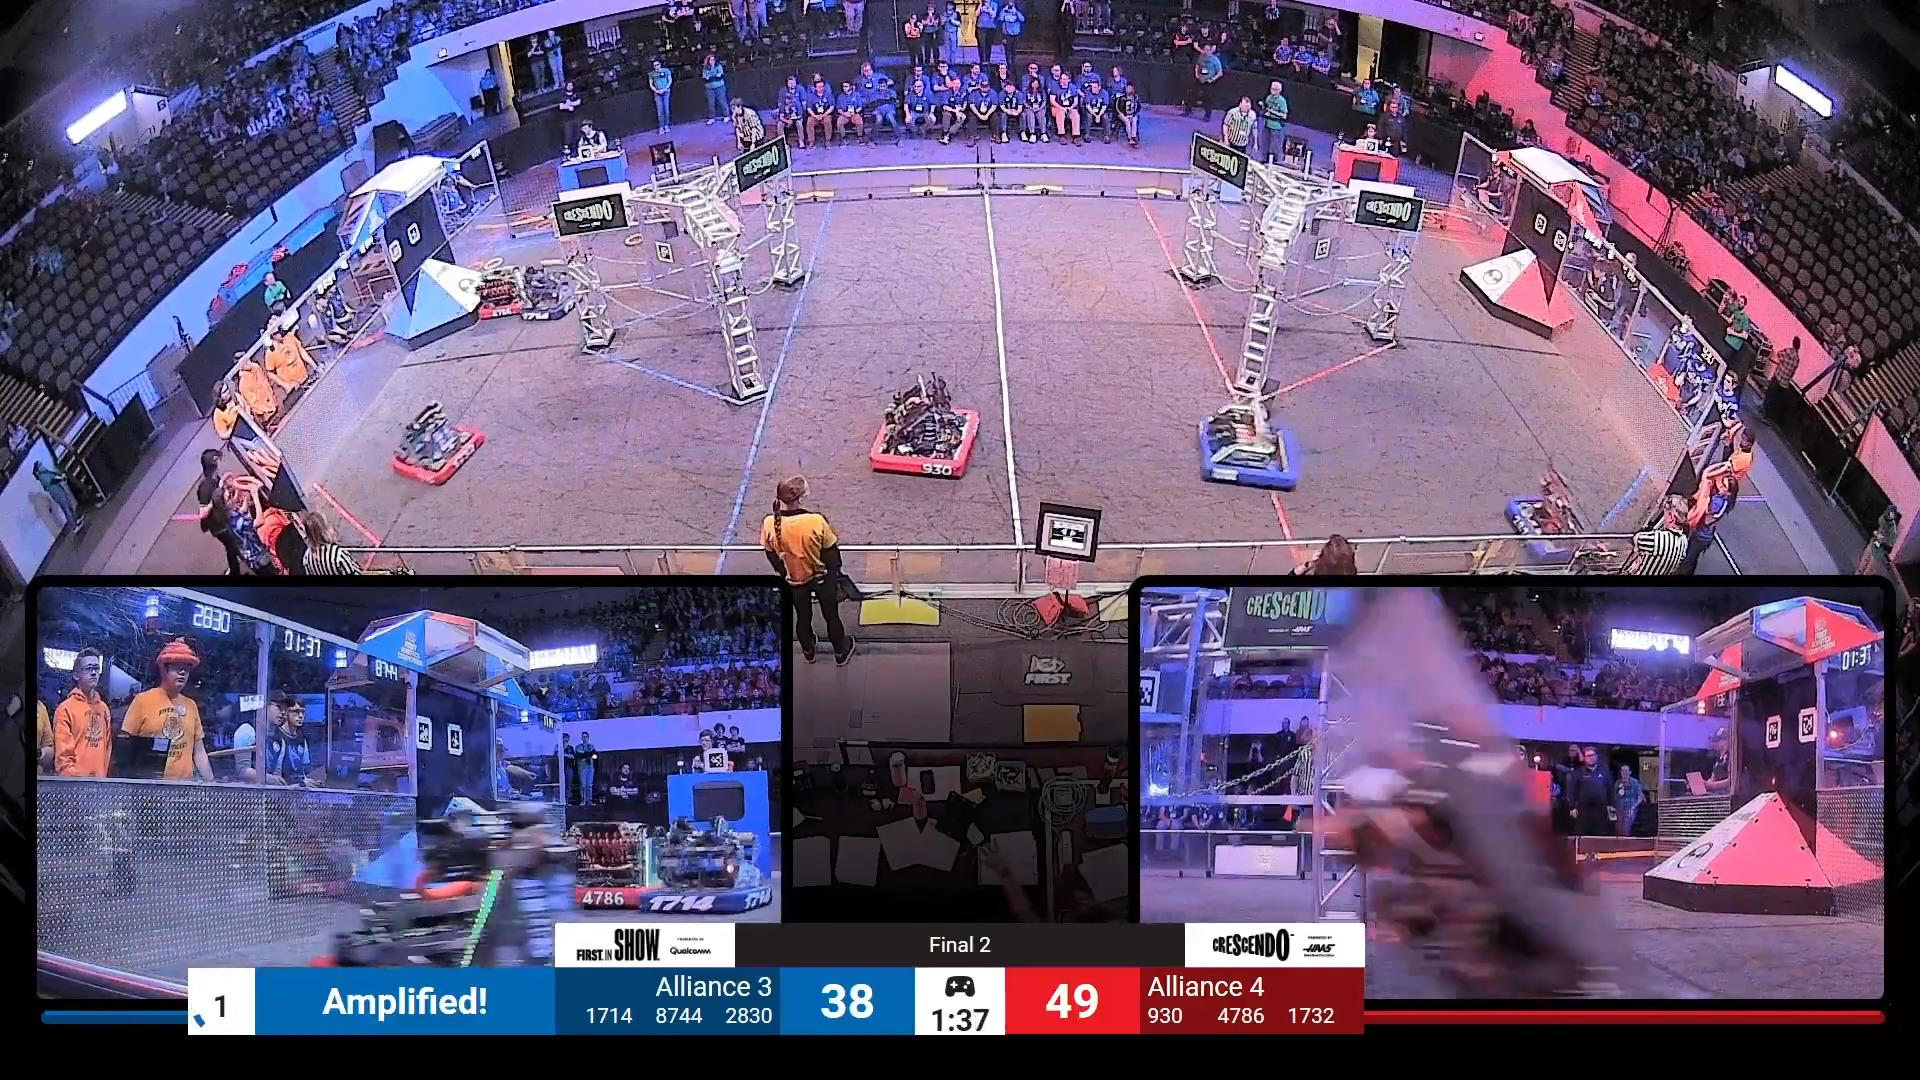robot: (301, 795, 543, 967), (649, 816, 781, 915), (869, 375, 984, 480), (567, 810, 673, 913), (1197, 388, 1300, 489), (1507, 465, 1601, 562), (390, 397, 483, 483), (516, 262, 582, 323), (477, 266, 526, 320)
